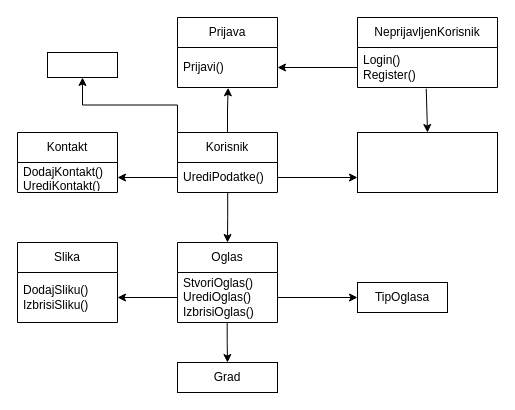
This 515x410 diagram has some shape labels left out. Each missing label, with the centre of its shape:
OglasReadOnlyList: the point at 427,162
Uloga: the point at 82,65
